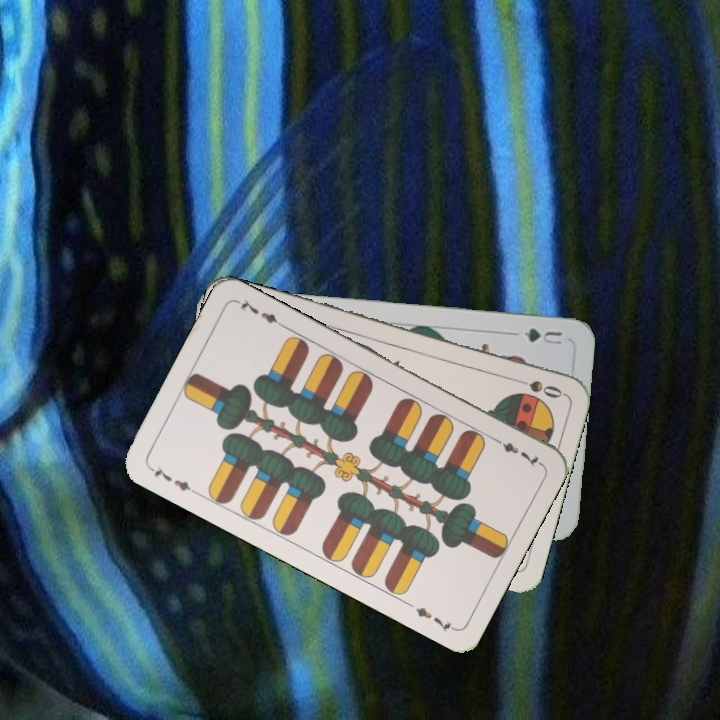E7: (489, 433, 544, 470), (145, 463, 200, 497)
GU: (520, 324, 565, 347)
SO: (508, 373, 565, 401)
